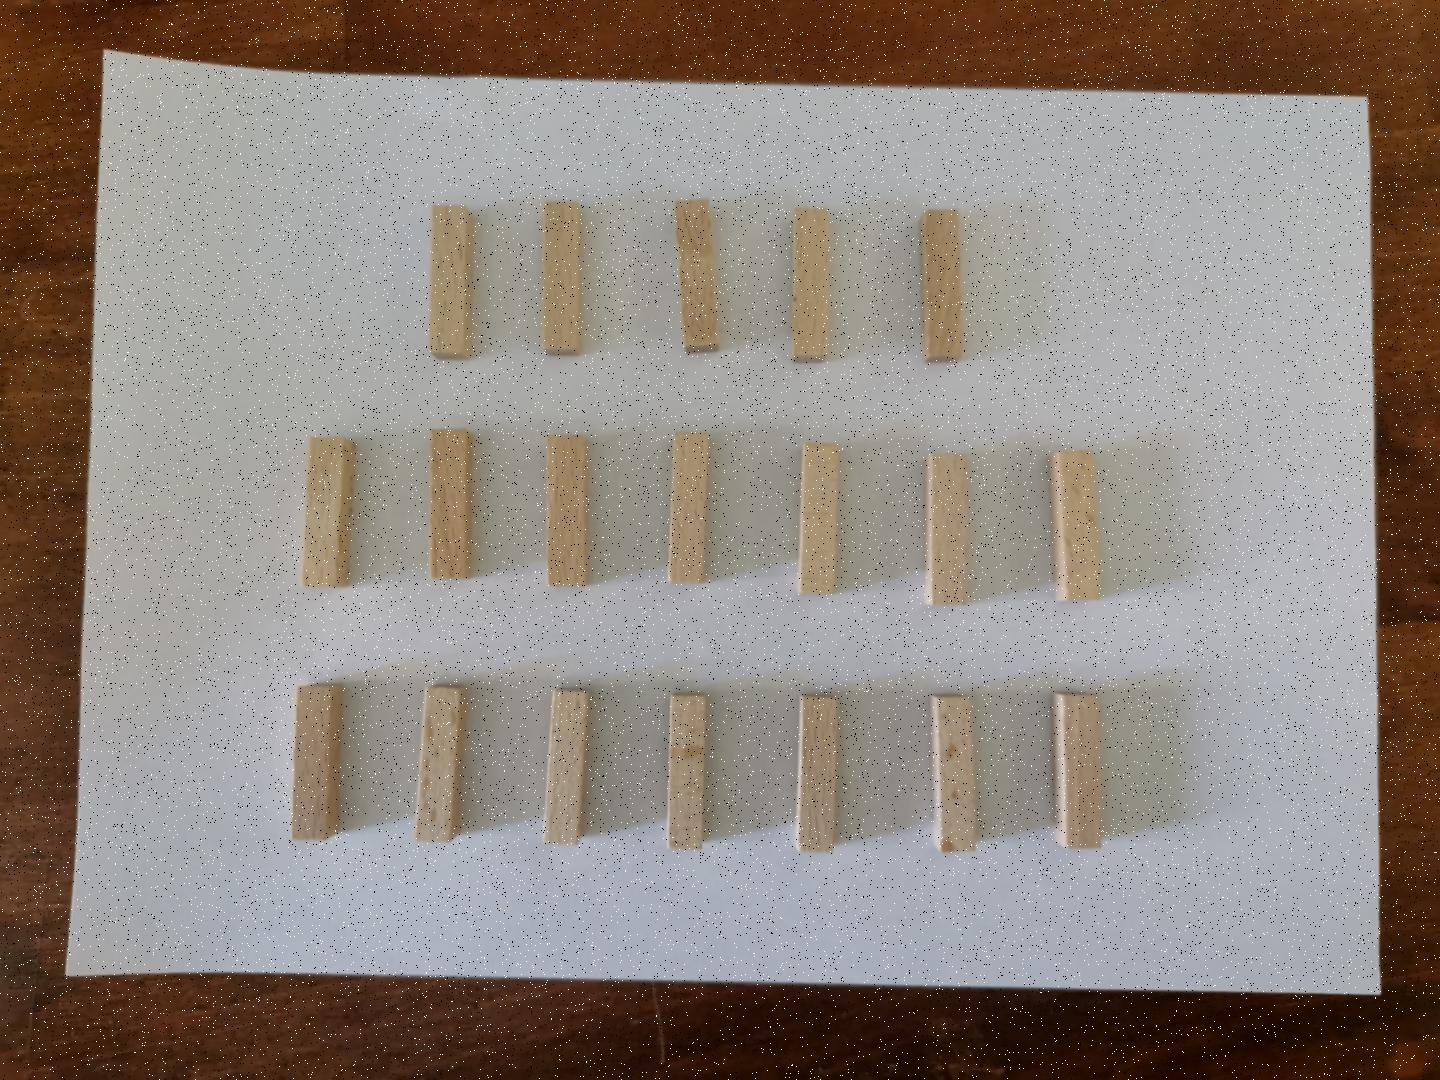jenga: (289, 686, 344, 841), (300, 436, 355, 588), (416, 686, 467, 844), (1049, 450, 1100, 599), (543, 689, 591, 844), (1054, 694, 1102, 850), (931, 694, 976, 852), (675, 200, 720, 352), (796, 694, 838, 852), (920, 208, 962, 363), (431, 205, 473, 360), (545, 436, 587, 585), (431, 430, 473, 580), (925, 456, 967, 605), (667, 694, 706, 850), (798, 441, 838, 593), (669, 433, 709, 582), (543, 202, 582, 354), (793, 208, 827, 363)
